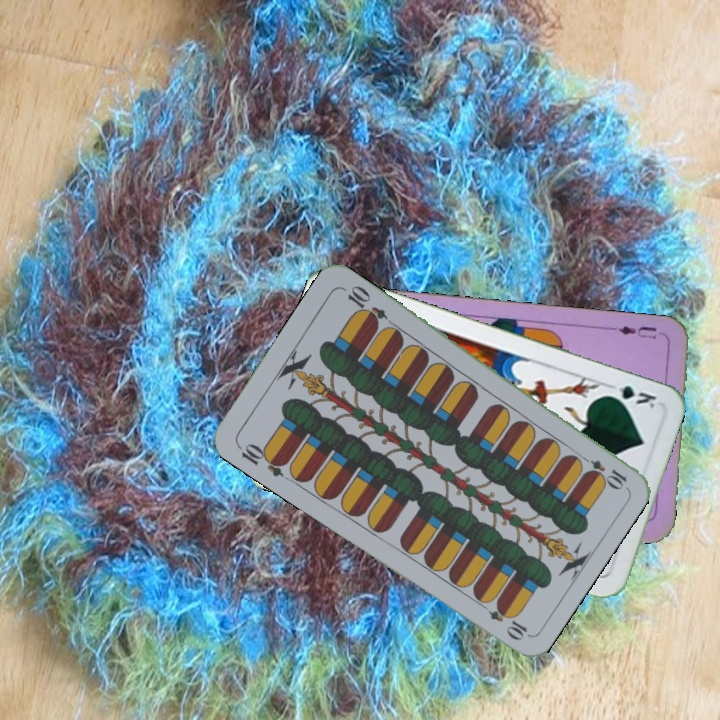E10: (233, 439, 290, 480), (574, 450, 630, 491)
EU: (614, 321, 660, 342)
GK: (601, 380, 659, 412)
